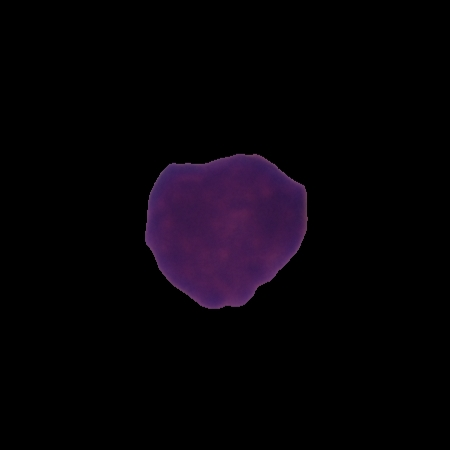HEM: (141, 150, 311, 312)
